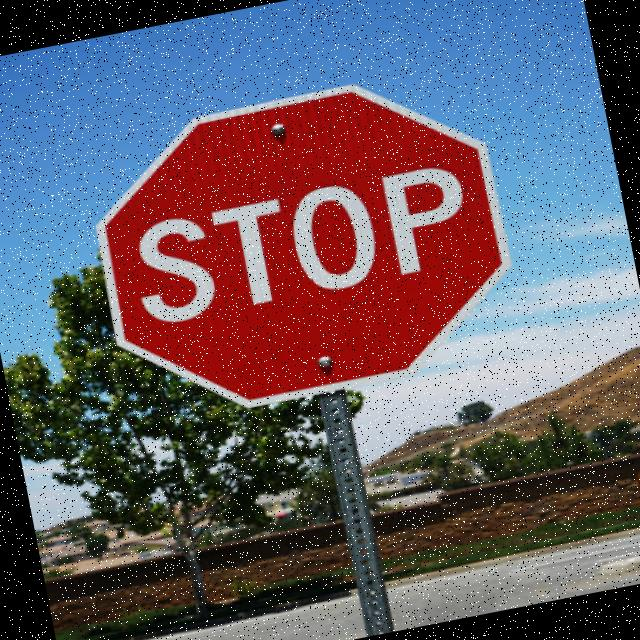stop: (69, 55, 532, 434)
